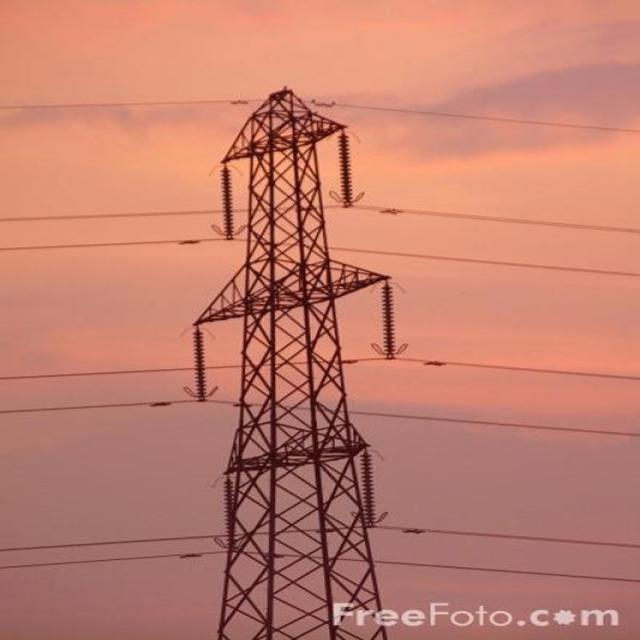non-critical vegetation: (172, 80, 426, 632)
